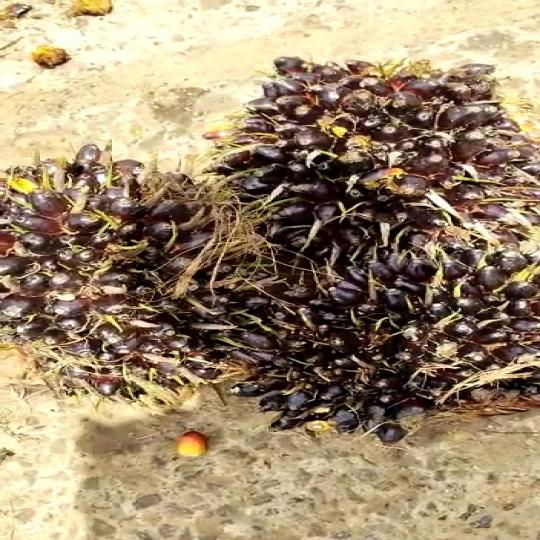mentah: (216, 50, 540, 277), (0, 135, 264, 406), (252, 239, 540, 441)
